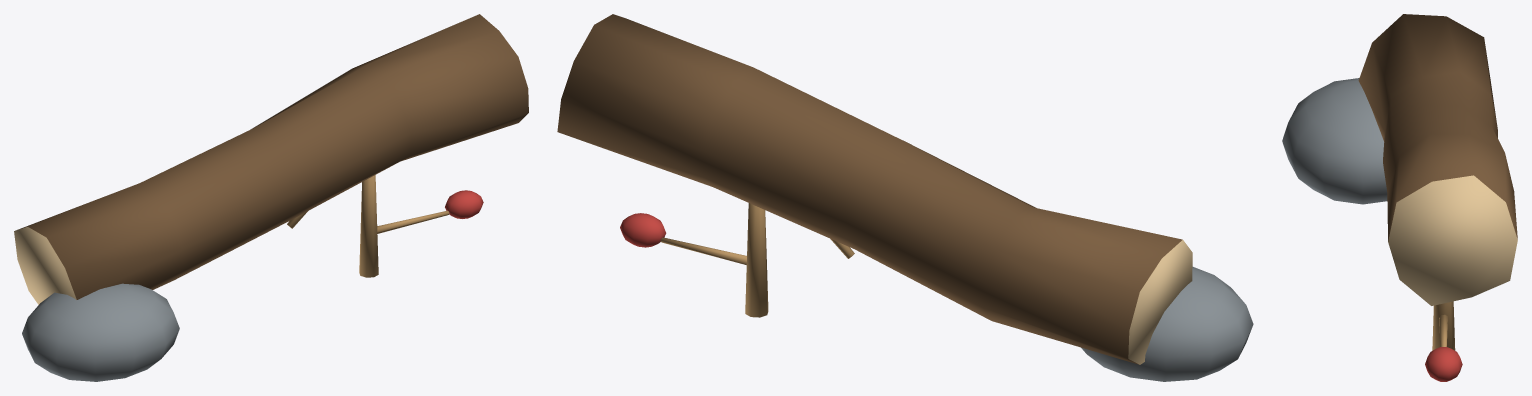
The model's file is deadfall_trap_heavy.glb.
The picture shows the model from 3 angles, left to right: view 1: azimuth 30°, elevation 25°; view 2: azimuth 150°, elevation 25°; view 3: azimuth 270°, elevation 25°; orthographic projection. The views are drawn at different scales.
Parts seen in each view (by area): view 1: deadfall_weight, back_stop, trigger_upright, bait, bait_stick; view 2: deadfall_weight, back_stop, trigger_upright, bait, bait_stick; view 3: deadfall_weight, back_stop, bait, trigger_upright, bait_stick.
Part boxes in pixels (<box>): deadfall_weight: <box>14,14,528,304</box>; back_stop: <box>22,283,179,381</box>; trigger_upright: <box>359,175,378,277</box>; bait: <box>445,190,483,218</box>; bait_stick: <box>377,210,449,233</box>; deadfall_weight: <box>557,14,1192,364</box>; back_stop: <box>1081,267,1253,381</box>; trigger_upright: <box>745,203,768,317</box>; bait: <box>620,213,666,247</box>; bait_stick: <box>660,237,746,264</box>; deadfall_weight: <box>1358,14,1517,305</box>; back_stop: <box>1282,78,1387,204</box>; bait: <box>1425,347,1462,381</box>; trigger_upright: <box>1432,301,1455,350</box>; bait_stick: <box>1439,314,1447,346</box>.
Bounding box in the file's own units: 1.65 × 0.6696 × 0.5524.
